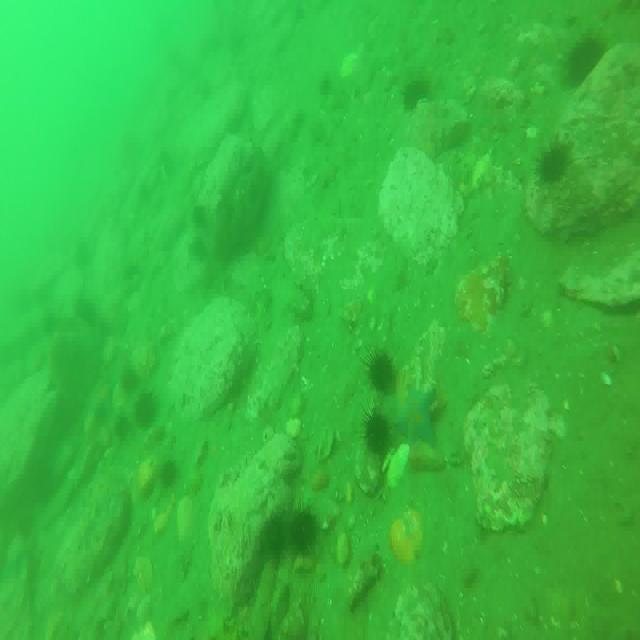echinus: (568, 31, 602, 88), (368, 343, 398, 394), (291, 504, 321, 554), (364, 407, 390, 464), (540, 141, 571, 184), (264, 514, 292, 559), (402, 73, 435, 111), (134, 388, 157, 427), (157, 456, 181, 490), (118, 362, 142, 396), (190, 202, 207, 232), (116, 414, 132, 432)
starfish: (396, 389, 439, 447)
